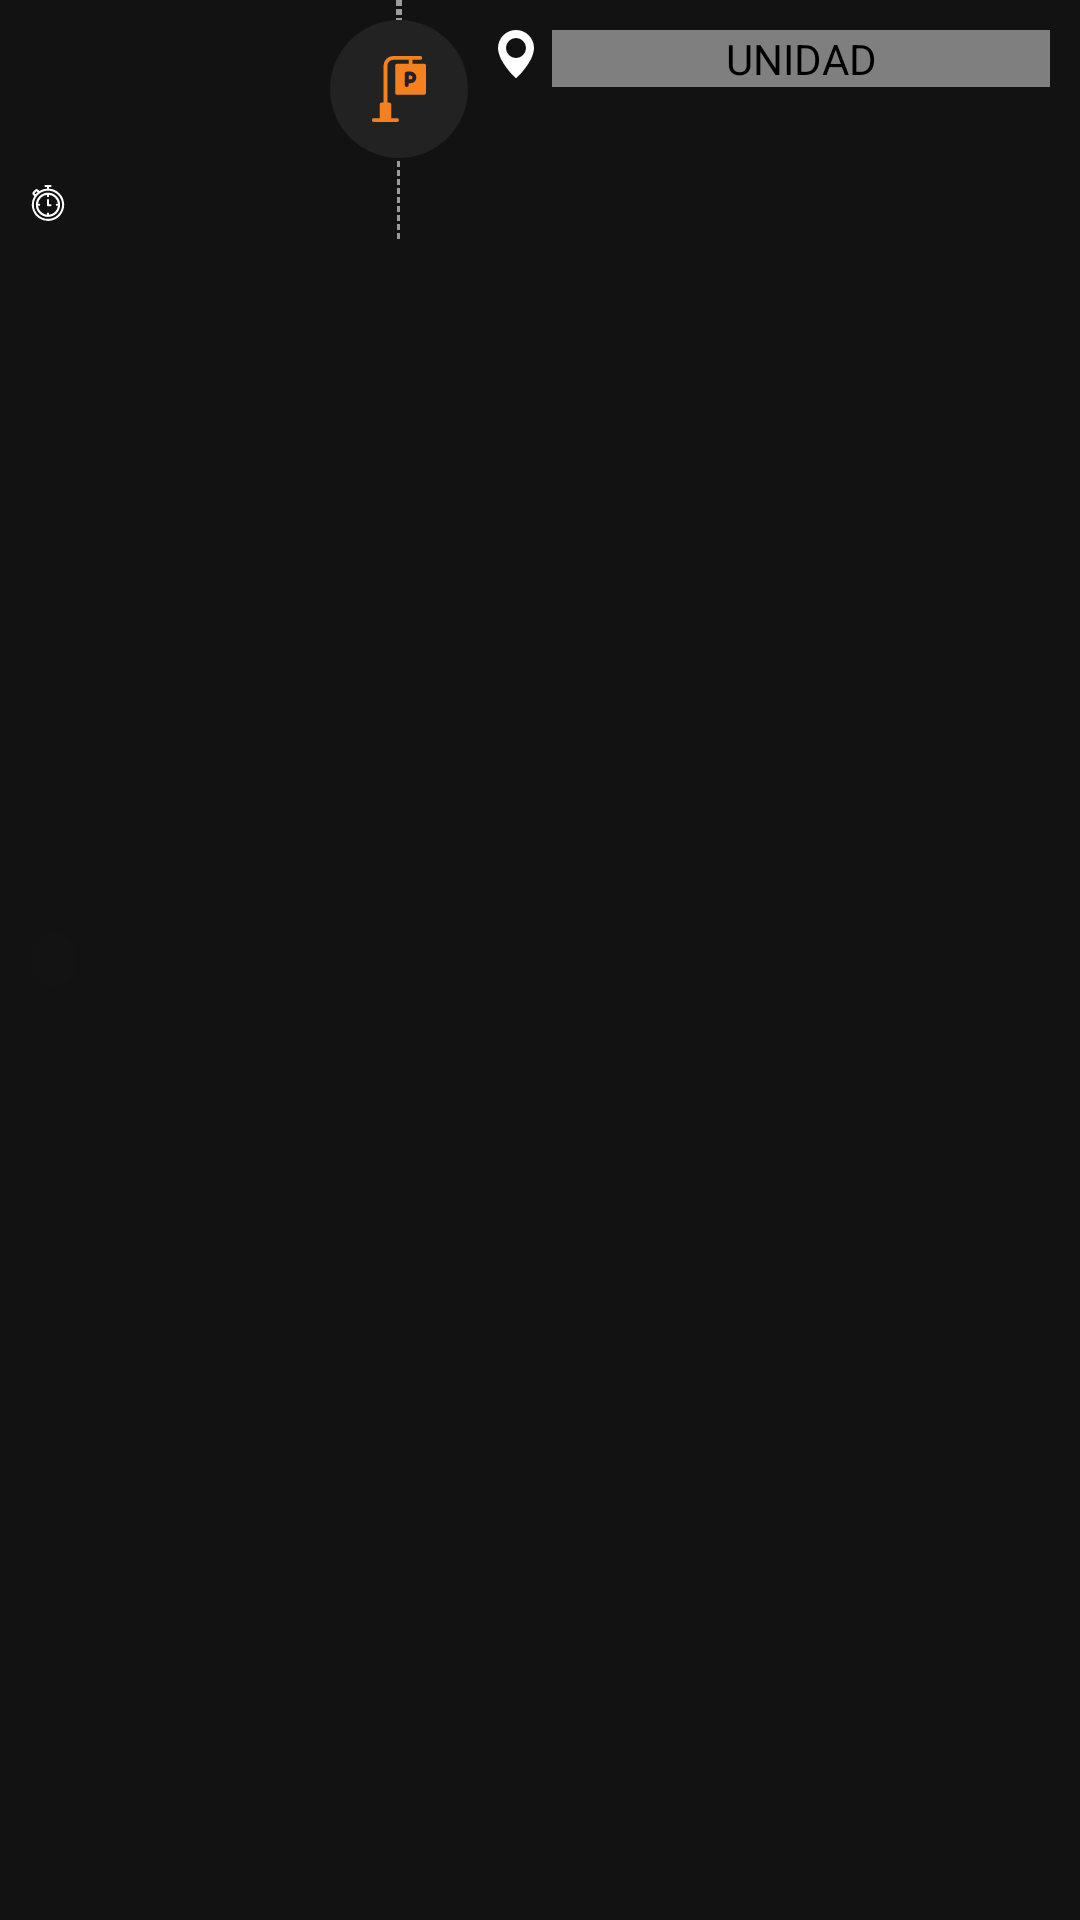

Where icons sit on this 1080x1920 app screen, as (left=x1, top=y1, right=x2, bottom=y2):
address loc: (left=498, top=30, right=534, bottom=78)
trip vehicle parked: (left=330, top=20, right=468, bottom=158)
